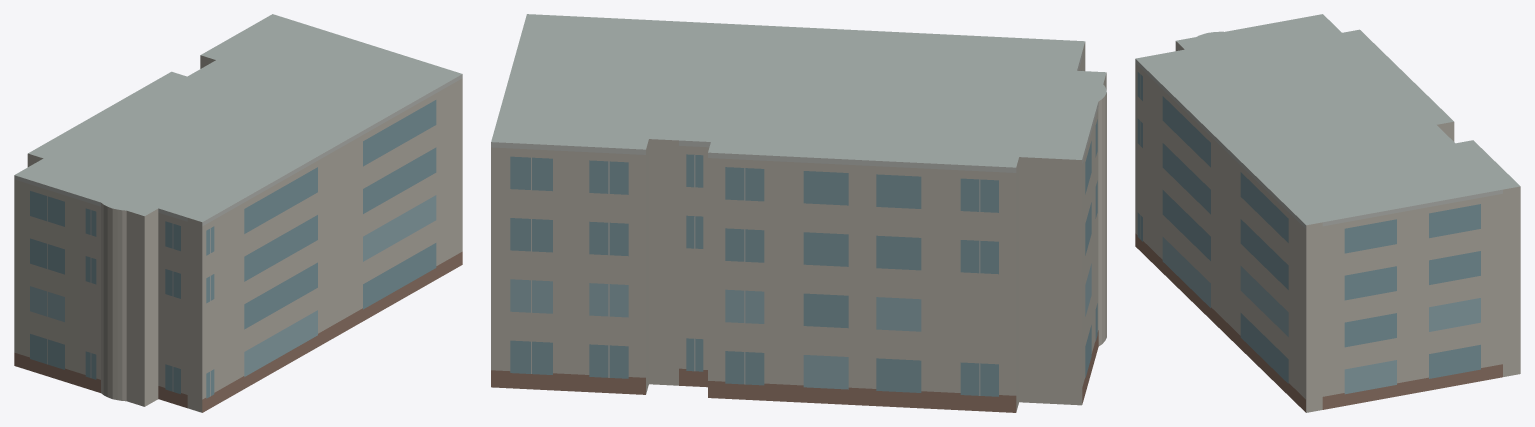
File: survey-upis-32929901.glb
3 renders of one model, left to right at view 1: azimuth 30°, elevation 25°; view 2: azimuth 150°, elevation 25°; view 3: azimuth 270°, elevation 25°, orthographic. The views are drawn at different scales.
Visible parts, largest first — view 1: survey-upis-32929901.tmp; view 2: survey-upis-32929901.tmp; view 3: survey-upis-32929901.tmp.
Part boxes in pixels (bbox=[...]): survey-upis-32929901.tmp: bbox=[14, 14, 462, 412]; survey-upis-32929901.tmp: bbox=[491, 14, 1106, 412]; survey-upis-32929901.tmp: bbox=[1135, 14, 1520, 412].
Bounding box in the file's own units: 27.06 × 11.2 × 20.86.
